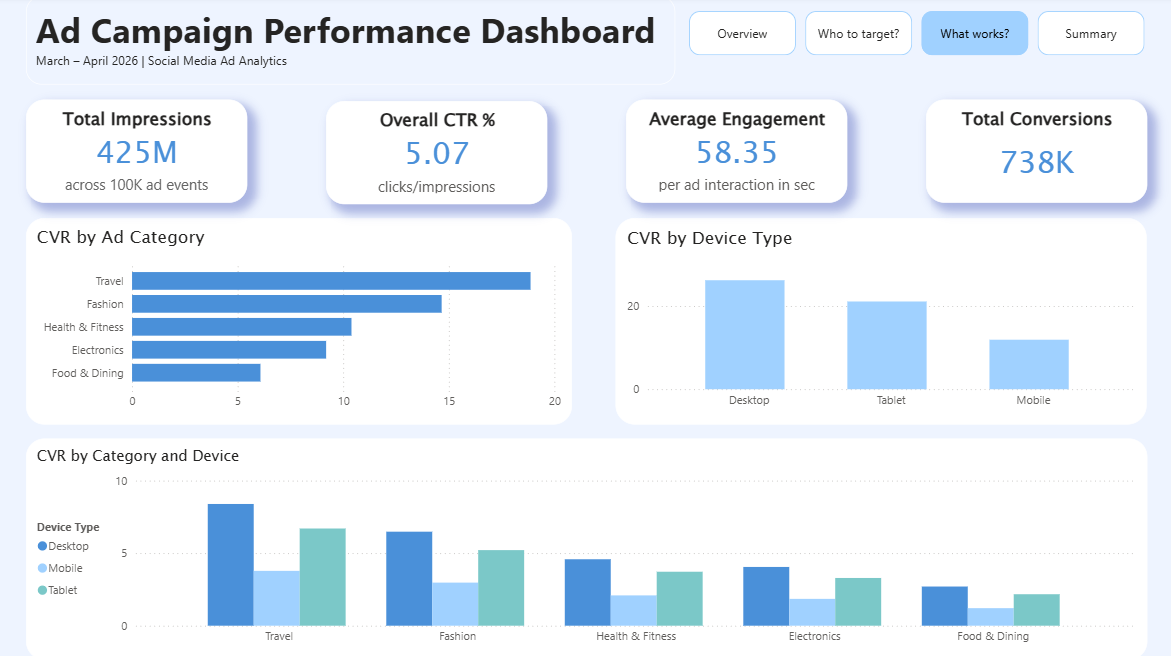

Layout of this report page (visuals, bound fields, positions):
{"tool":"powerbi","page":{"name":"What works?","canvas":[1280,720],"ordinal":2},"visuals":[{"type":"clusteredBarChart","title":"CVR by Ad Category","fields":{"Category":["vw_category_device1.ad_category"],"Y":["Sum(vw_category_device1.cvr_pct)"]},"box":[32,240,592,224],"z":0},{"type":"textbox","box":[32,0,704,96],"z":1000},{"type":"card","title":"Total Impressions","fields":{"Values":["Sum(vw_category_device1.total_impressions)"]},"box":[32,112,240,112],"z":1000},{"type":"card","title":"Overall CTR %","fields":{"Values":["Avg(vw_category_device1.ctr_pct)"]},"box":[357.3,113.6,240,112],"z":2000},{"type":"columnChart","title":"CVR by Device Type","fields":{"Category":["vw_category_device1.device_type"],"Y":["Sum(vw_category_device1.cvr_pct)"]},"box":[672,240,576,224],"z":2000},{"type":"pageNavigator","box":[752,16,496,48],"z":3000},{"type":"card","title":"Average Engagement","fields":{"Values":["Avg(vw_category_device1.avg_engagement_sec)"]},"box":[682.7,112,240,112],"z":3000},{"type":"card","title":"Total Conversions","fields":{"Values":["Sum(vw_category_device1.total_conversions)"]},"box":[1008,112,240,112],"z":4000},{"type":"clusteredColumnChart","title":"CVR by Category and Device","fields":{"Category":["vw_category_device1.ad_category"],"Y":["Avg(vw_category_device1.cvr_pct)"],"Series":["vw_category_device1.device_type"]},"box":[32,480,1216,240],"z":4000}]}

Visuals, with their boxes in screenshot pixels (x1, y1, x2, y2), scaled from the page's 1280x720 canvas onto the 1171x656 screenshot:
"CVR by Ad Category" clusteredBarChart: x1=29, y1=219, x2=571, y2=423
textbox: x1=29, y1=0, x2=673, y2=87
"Total Impressions" card: x1=29, y1=102, x2=249, y2=204
"Overall CTR %" card: x1=327, y1=104, x2=546, y2=206
"CVR by Device Type" columnChart: x1=615, y1=219, x2=1142, y2=423
pageNavigator: x1=688, y1=15, x2=1142, y2=58
"Average Engagement" card: x1=625, y1=102, x2=844, y2=204
"Total Conversions" card: x1=922, y1=102, x2=1142, y2=204
"CVR by Category and Device" clusteredColumnChart: x1=29, y1=437, x2=1142, y2=655
